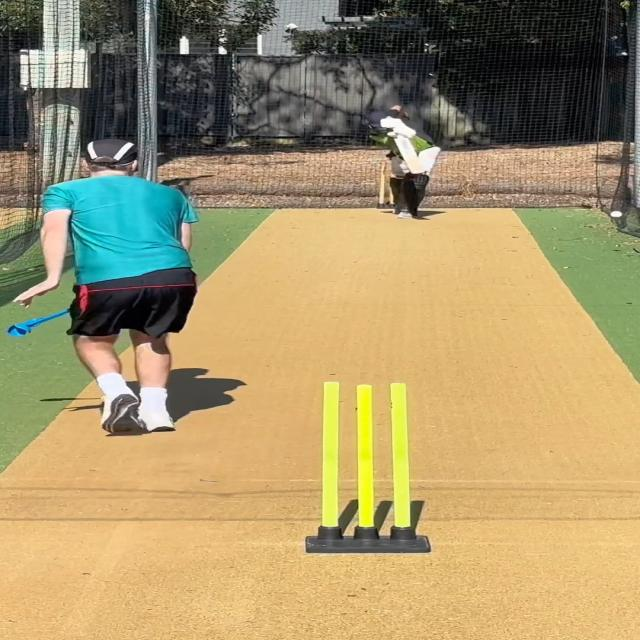ball: (608, 210, 625, 220)
stump: (304, 380, 428, 554)
